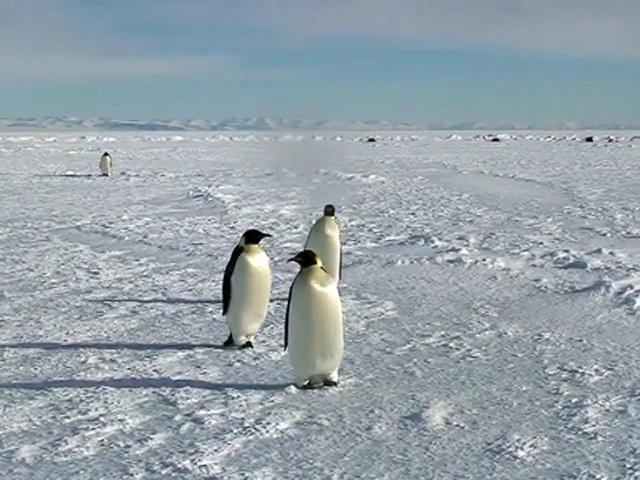animal: (305, 205, 341, 283)
